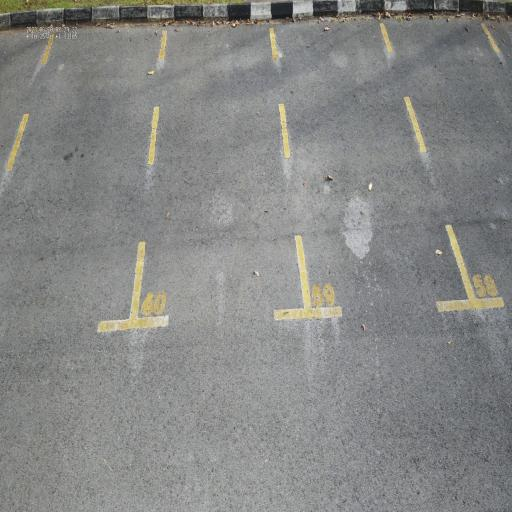Empty: (266, 16, 478, 324), (124, 16, 313, 336)
